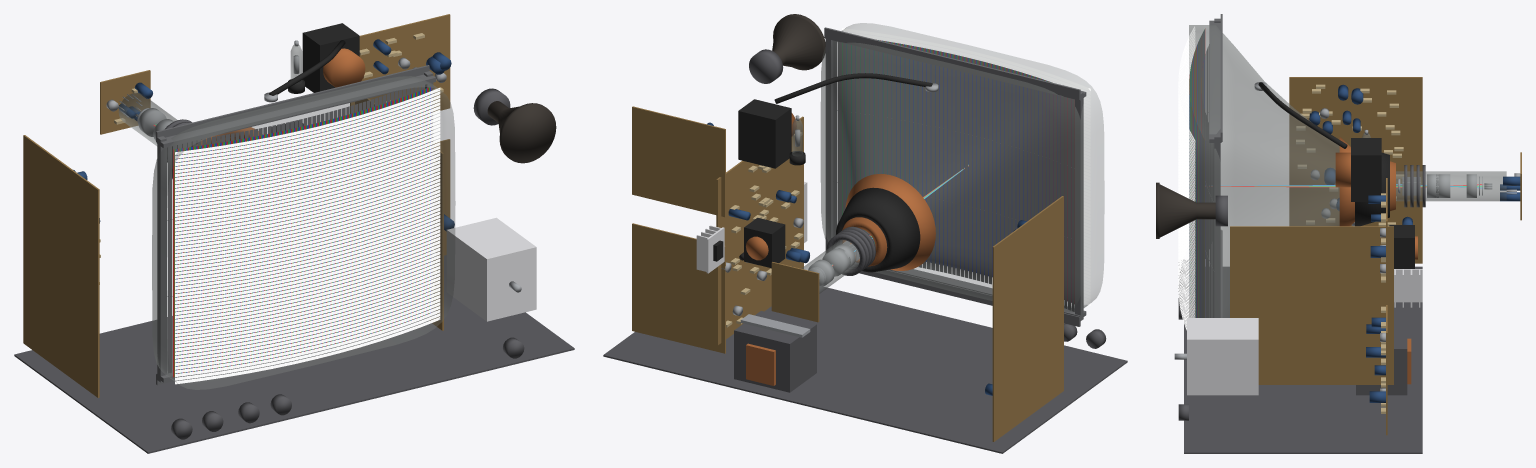
3 views of the same model, side by side, from view 1: azimuth 30°, elevation 25°; view 2: azimuth 150°, elevation 25°; view 3: azimuth 270°, elevation 25° (orthographic). The views are drawn at different scales.
Visible parts, largest first — view 1: chassis_tray, phosphor_screen, board_sd, bulb, tuner_can, board_rv, speaker_cone, grille, frame_top, frame_top_lip, frame_left, flyback_core (+7 smaller); view 2: bulb, grille, chassis_tray, board_sd, phosphor_screen, board_power, board_rv, board_cv, pt_core, yoke_core, flyback_core, yoke_windings (+15 smaller); view 3: bulb, board_cv, chassis_tray, board_sd, tuner_can, phosphor_screen, neck, grille, flyback_core, speaker_cone, frame_top, pt_core (+9 smaller).
Boxes of the visible parts, x1,y1,x2,y2 form: chassis_tray: [14, 255, 574, 453]; phosphor_screen: [173, 87, 431, 377]; board_sd: [23, 135, 99, 397]; bulb: [152, 76, 455, 389]; tuner_can: [446, 217, 536, 321]; board_rv: [350, 14, 450, 113]; speaker_cone: [487, 101, 556, 163]; grille: [166, 84, 424, 373]; frame_top: [156, 74, 435, 148]; frame_top_lip: [156, 65, 429, 142]; frame_left: [157, 136, 166, 382]; flyback_core: [302, 23, 359, 92]; bulb: [820, 23, 1104, 311]; grille: [833, 41, 1074, 311]; chassis_tray: [603, 287, 1127, 453]; board_sd: [992, 196, 1063, 441]; phosphor_screen: [842, 40, 1074, 303]; board_power: [632, 223, 725, 353]; board_rv: [632, 106, 725, 217]; board_cv: [716, 116, 803, 345]; pt_core: [734, 311, 816, 392]; yoke_core: [836, 187, 920, 272]; flyback_core: [738, 99, 791, 168]; yoke_windings: [842, 174, 935, 270]; bulb: [1189, 25, 1339, 317]; board_cv: [1230, 226, 1393, 384]; chassis_tray: [1184, 266, 1422, 453]; board_sd: [1289, 77, 1422, 263]; tuner_can: [1187, 318, 1258, 395]; phosphor_screen: [1189, 29, 1205, 317]; neck: [1396, 171, 1506, 201]; grille: [1201, 44, 1214, 317]; flyback_core: [1351, 138, 1381, 201]; speaker_cone: [1156, 182, 1215, 238]; frame_top: [1209, 20, 1221, 142]; pt_core: [1356, 323, 1407, 395].
Size of what is drawn, in the model's own units: 0.429 by 0.2885 by 0.357.
Materials: 784 (2 with a texture image).
